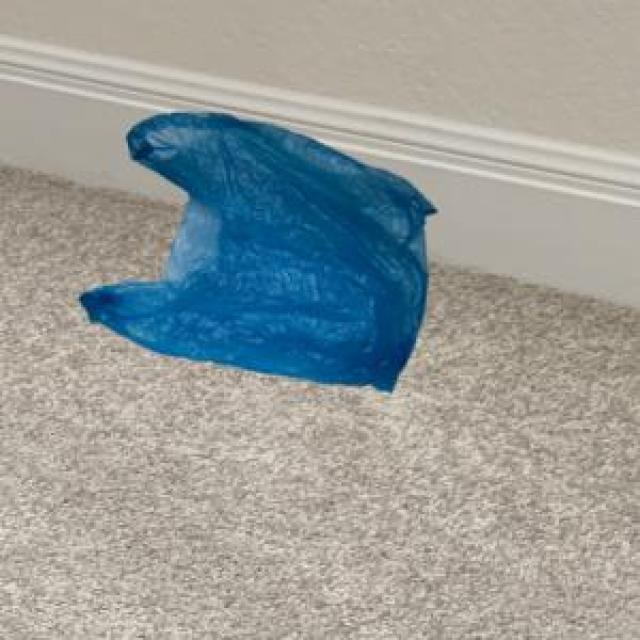plastic: (64, 84, 538, 467)
